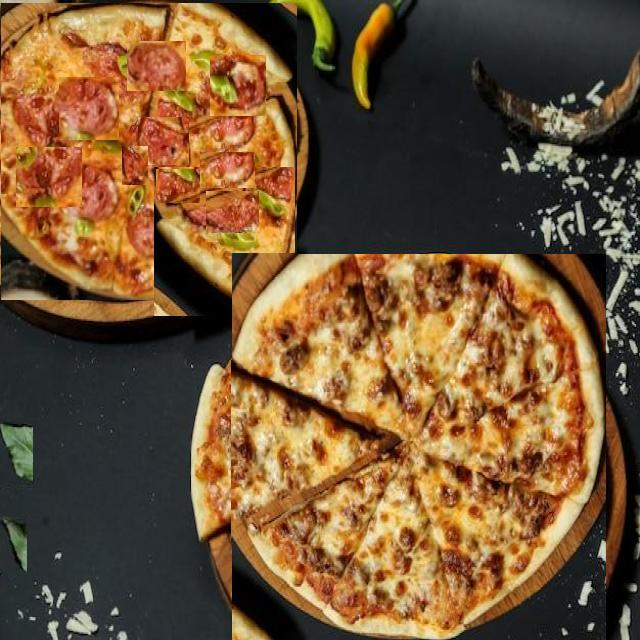basil: (0, 422, 33, 484), (0, 516, 27, 572)
pepperoni: (16, 147, 82, 207), (59, 77, 119, 140), (90, 198, 152, 254), (210, 55, 266, 116), (127, 41, 186, 91), (138, 117, 189, 165), (206, 192, 259, 233), (200, 152, 255, 188), (157, 170, 200, 203), (122, 146, 148, 185)
pizza: (233, 254, 606, 640), (1, 3, 297, 300), (192, 360, 386, 543), (154, 168, 295, 318)
